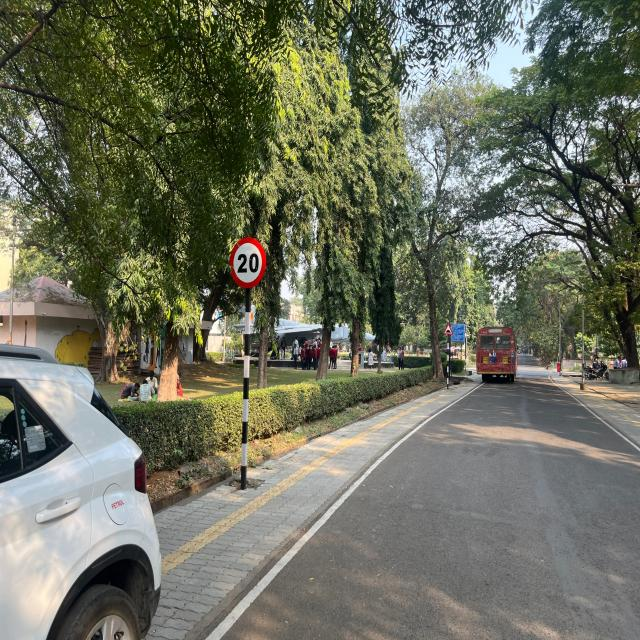forb_speed_over_20: (228, 234, 270, 290)
